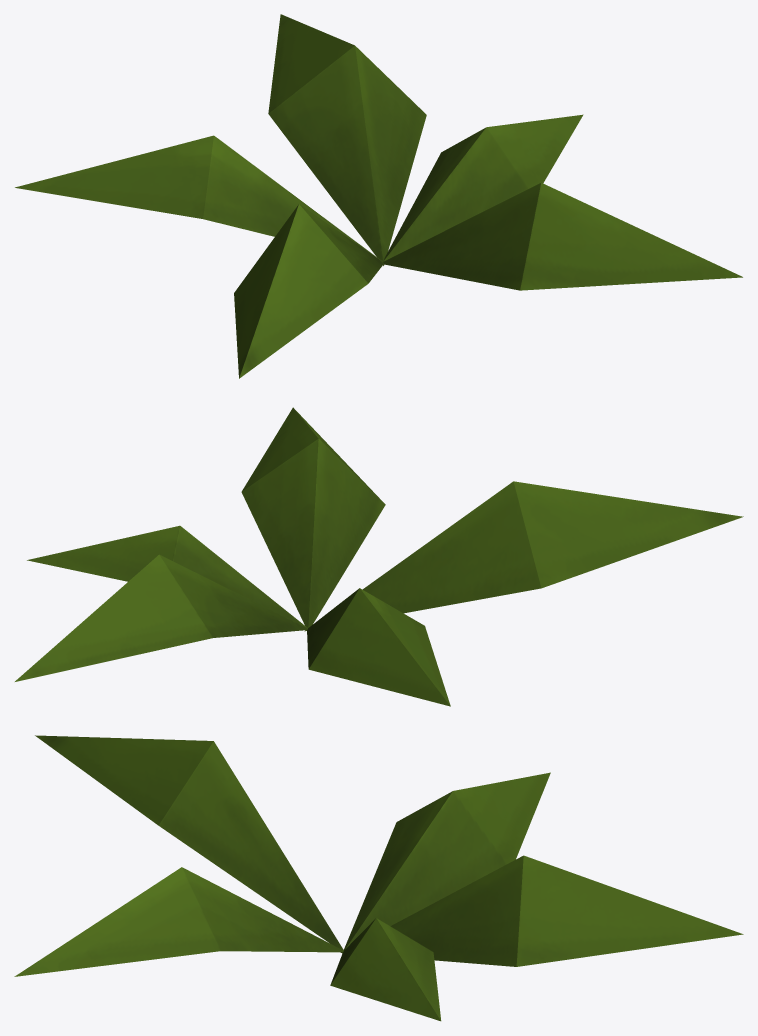
The model's file is Fern_01.FBX.
3 renders of one model, top to bottom at view 1: azimuth 30°, elevation 25°; view 2: azimuth 150°, elevation 25°; view 3: azimuth 270°, elevation 25°, orthographic. The views are drawn at different scales.
Parts seen in each view (by area): view 1: Fern_01; view 2: Fern_01; view 3: Fern_01.
Boxes of the visible parts, left/top/right/bottom form: Fern_01: left=15, top=14, right=742, bottom=378; Fern_01: left=15, top=407, right=743, bottom=706; Fern_01: left=14, top=735, right=743, bottom=1021.
Bounding box in the file's own units: 35.45 × 42.03 × 9.
